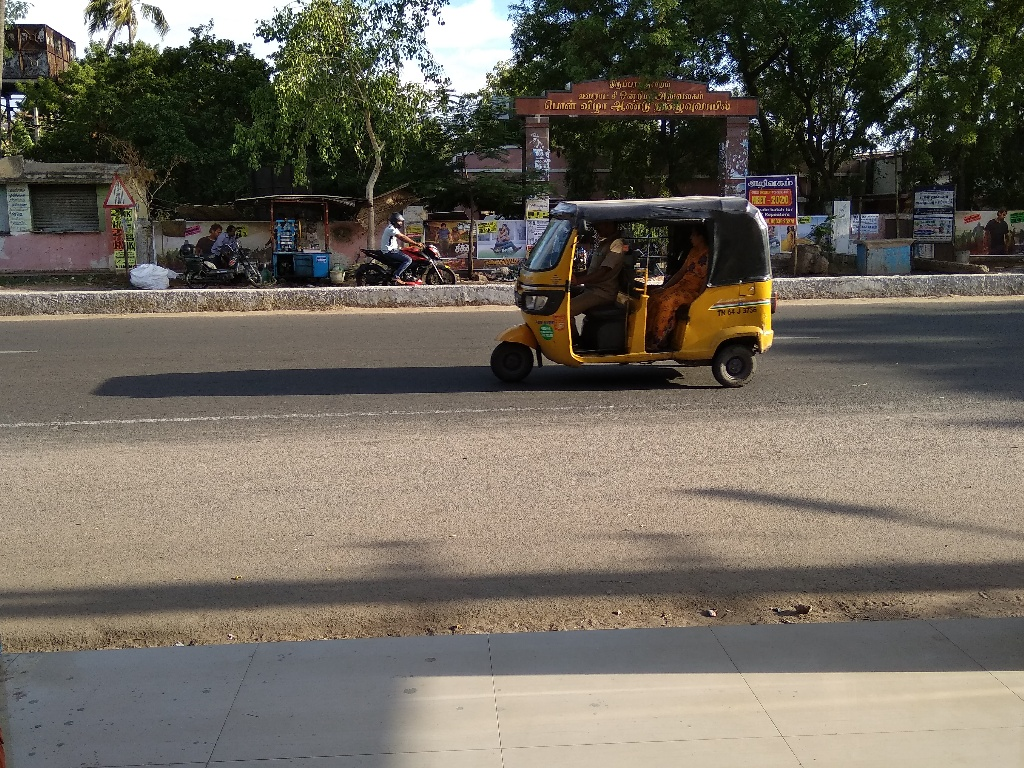biker: (347, 191, 461, 292)
helmet: (384, 205, 412, 233)
